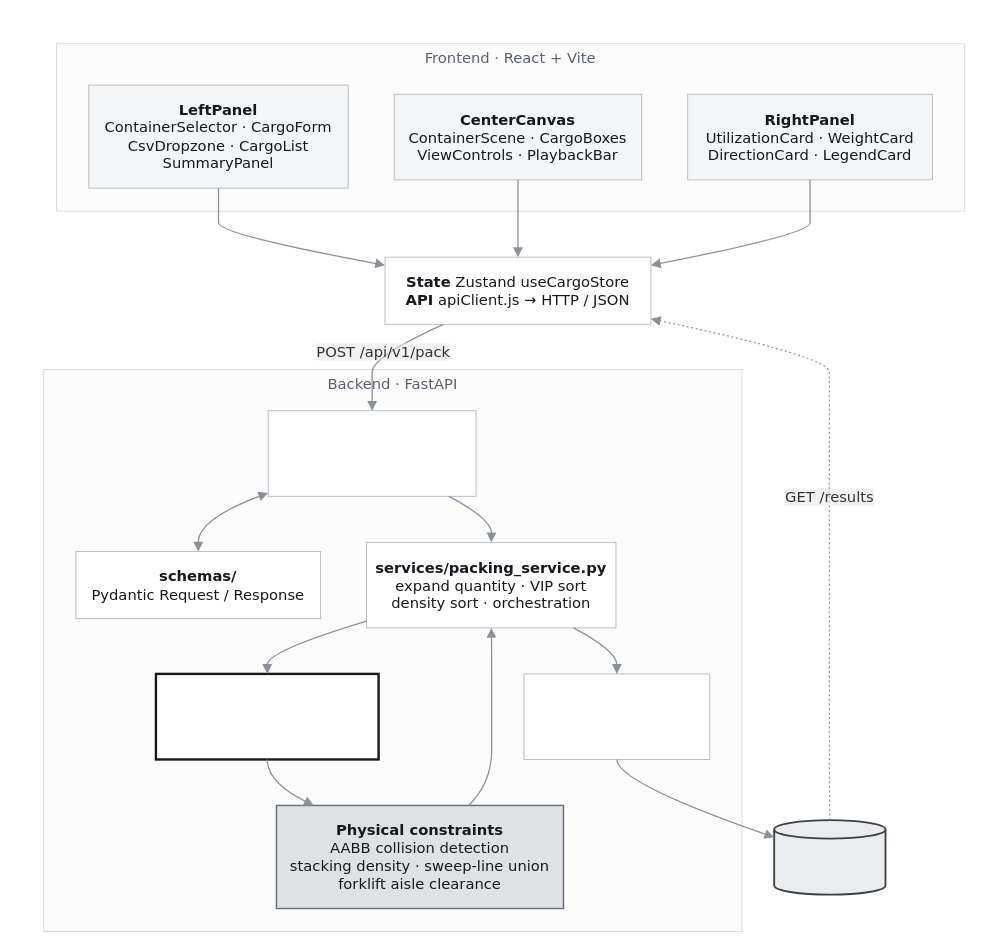
Image size: 981x948. Some labels were removed from this diagram. Each missing label, with the box of its shape:
algorithm/packing.py 3D bin packing BLB anchor-point method: (154, 672, 379, 760)
db/repository.py SQLAlchemy ORM Tasks · PackedItems: (523, 673, 710, 759)
PostgreSQL 16 Docker: (773, 819, 886, 895)
routes/pack.py POST /api/v1/pack GET /api/v1/results/id: (267, 410, 476, 496)
